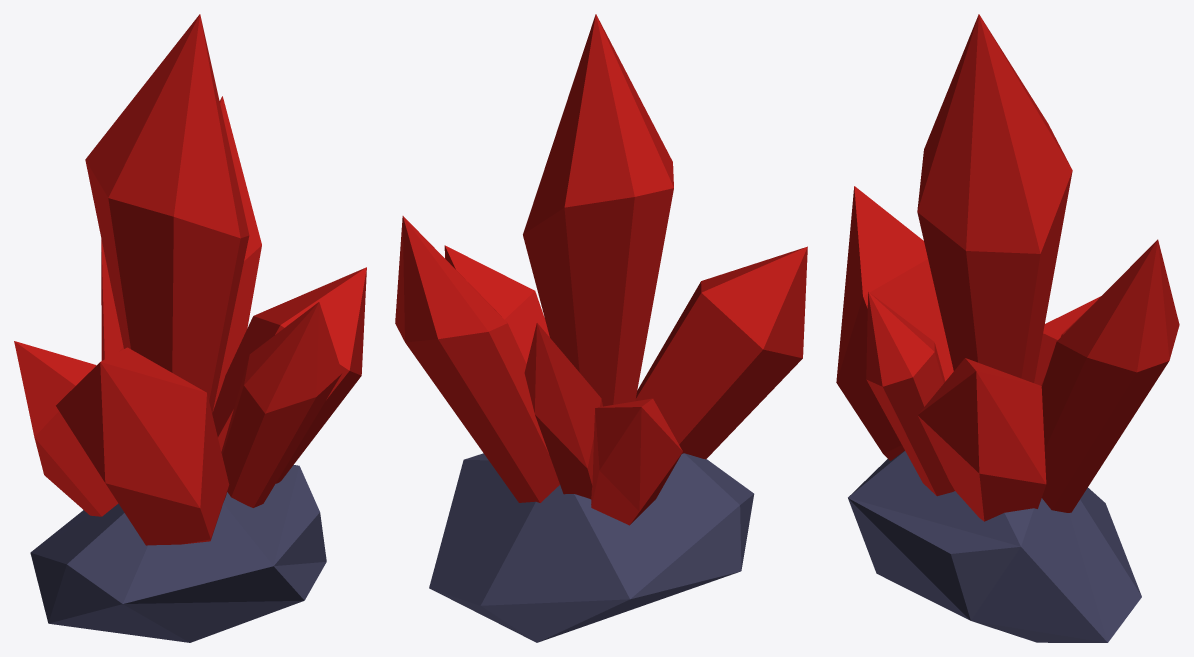
The model's file is CystalMedium1.fbx.
The picture shows the model from 3 angles, left to right: view 1: azimuth 30°, elevation 25°; view 2: azimuth 150°, elevation 25°; view 3: azimuth 270°, elevation 25°; orthographic projection. The views are drawn at different scales.
Parts seen in each view (by area): view 1: Spindle001; view 2: Spindle001; view 3: Spindle001.
Boxes of the visible parts, x1,y1,x2,y2 form: Spindle001: (14, 14, 366, 642); Spindle001: (395, 14, 807, 642); Spindle001: (836, 14, 1179, 642).
Bounding box in the file's own units: 16.13 × 15.17 × 29.58.
